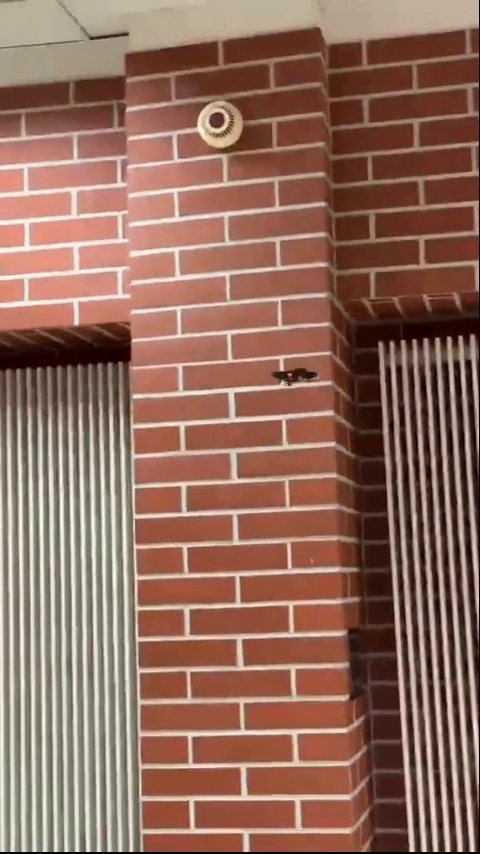drone: (273, 365, 322, 389)
